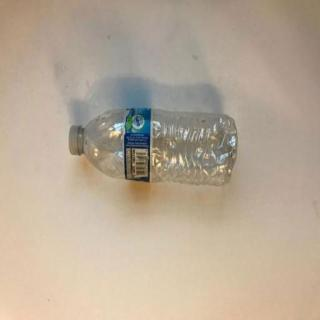Plastic-bottle: (69, 107, 239, 187)
